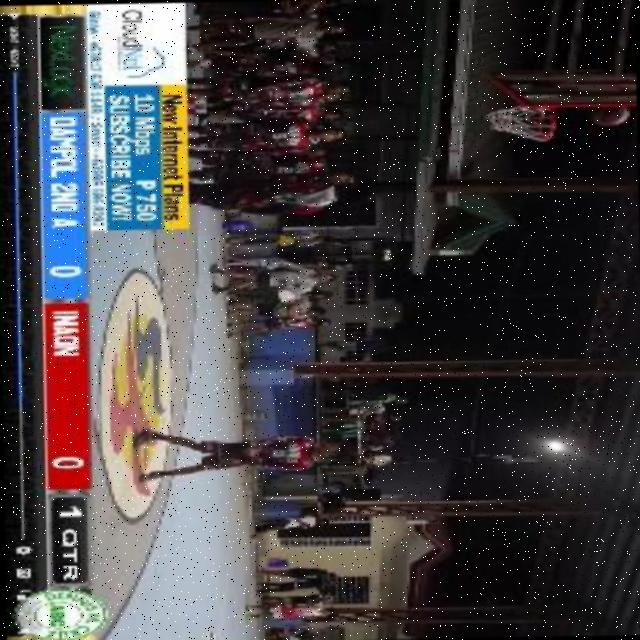ball: (584, 102, 634, 128)
hoop: (536, 108, 555, 142)
